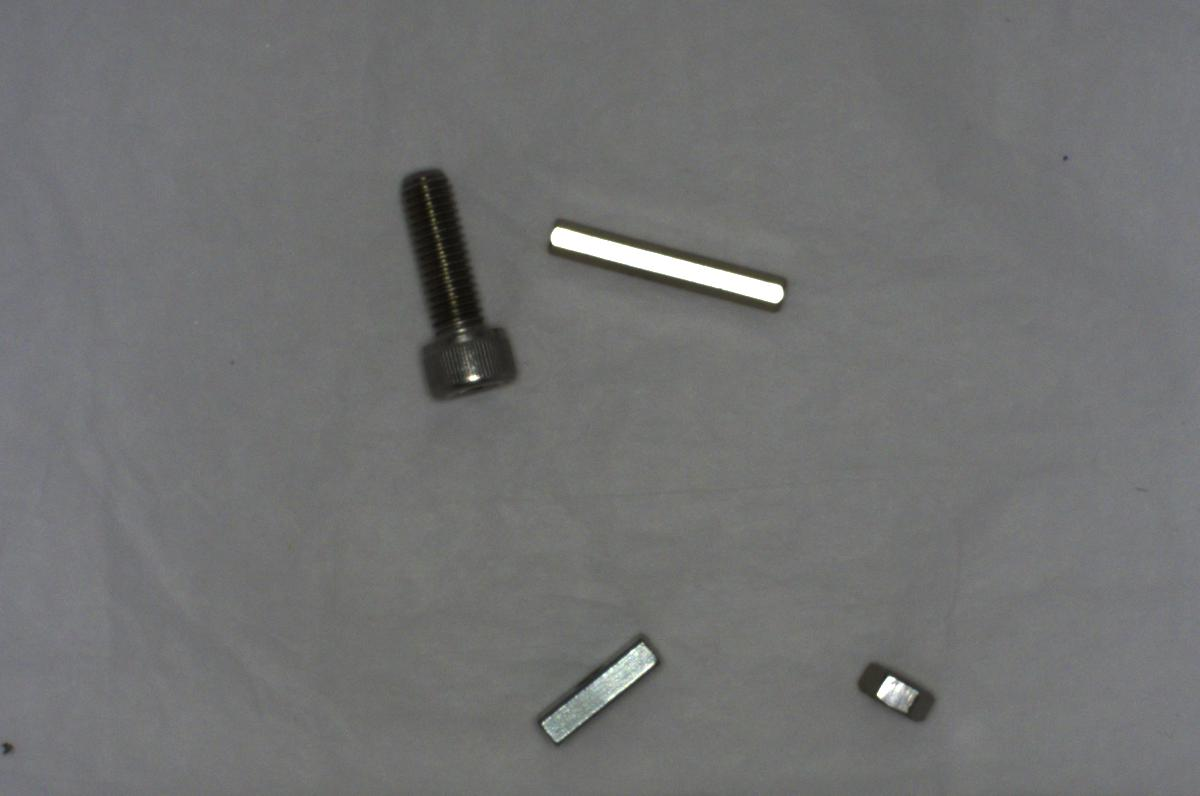Double hexagonal column: (530, 214, 793, 315)
Hexagon nut: (847, 654, 938, 732)
Hexagon screw: (391, 159, 524, 406)
Rectangular nut: (537, 629, 664, 746)
